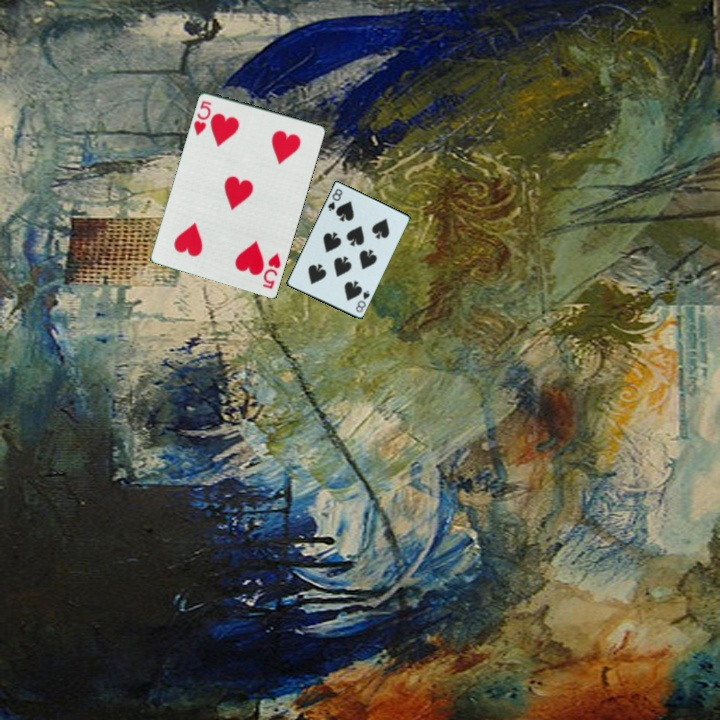5h: (259, 249, 284, 292), (190, 97, 214, 138)
8s: (324, 185, 345, 214), (352, 287, 373, 315)
